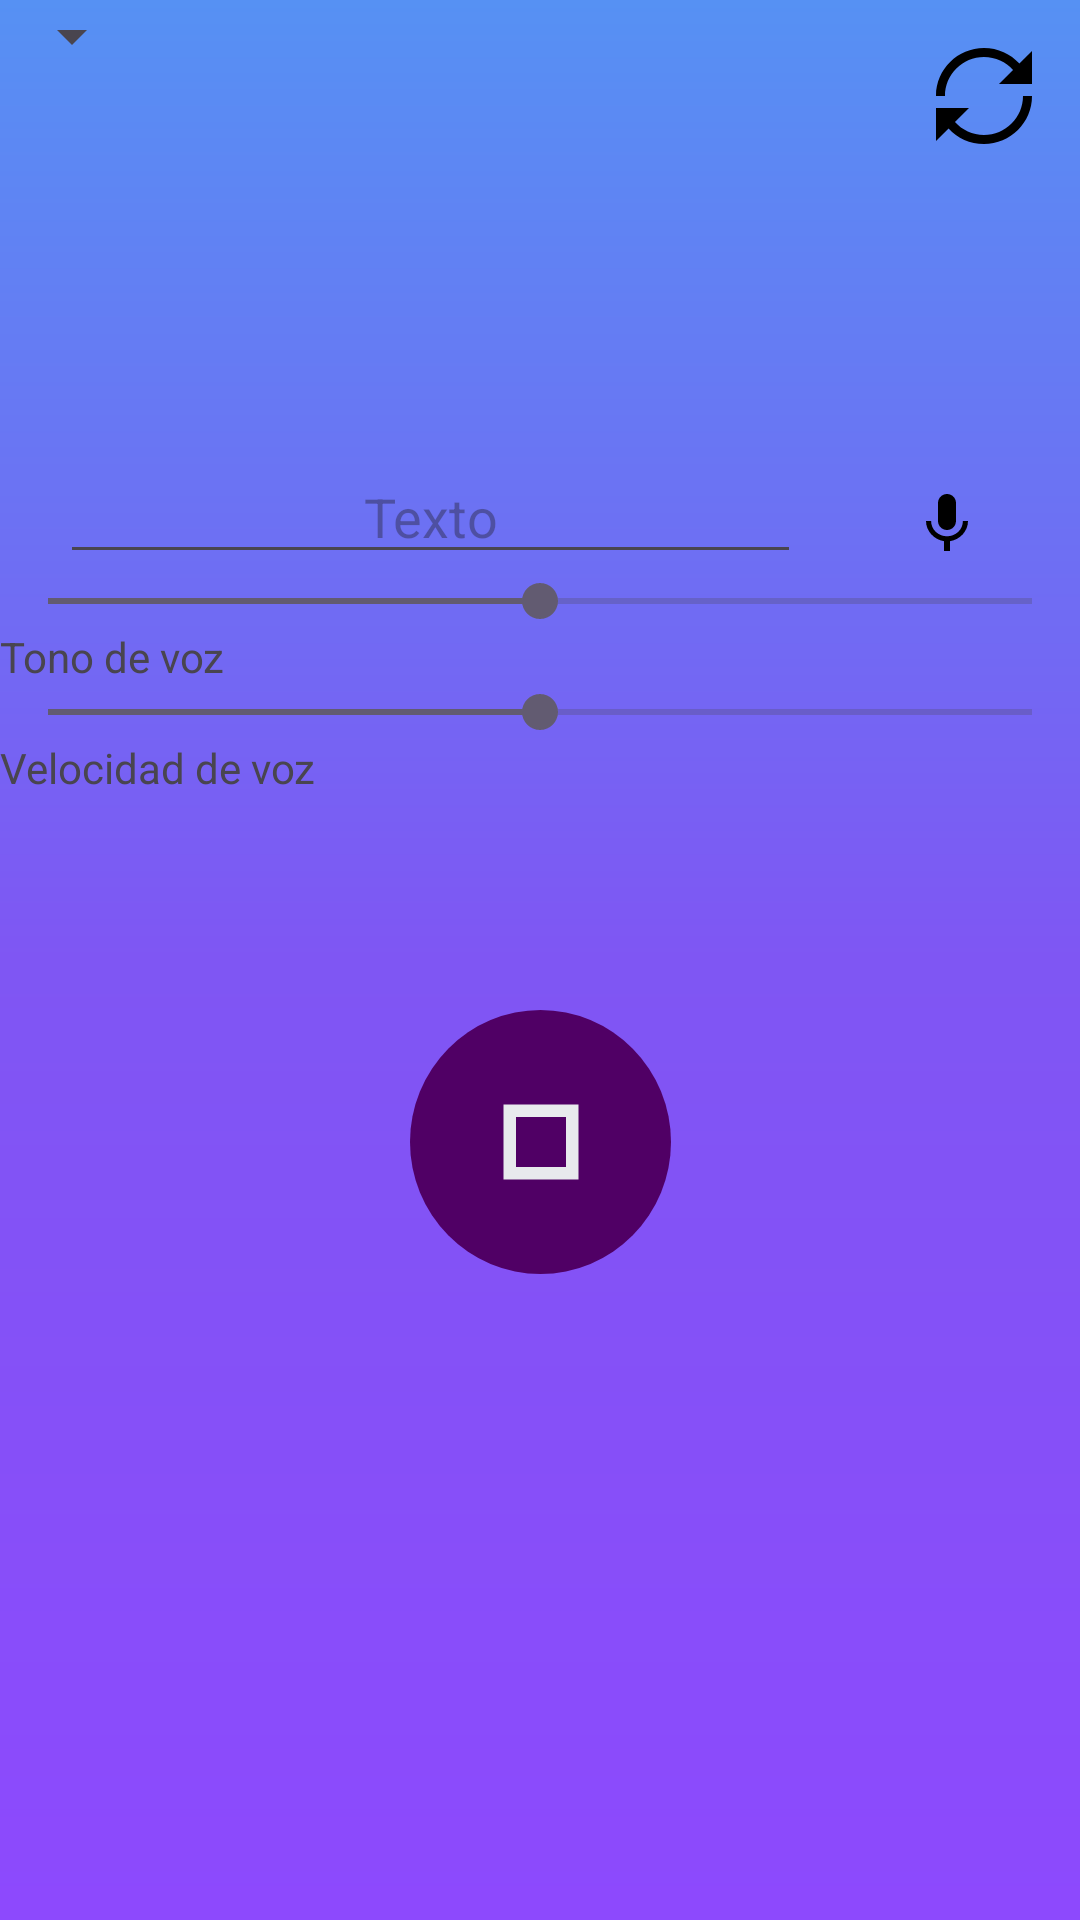

Where icons sit on this 1080px×1920px app screen, as bbox(x1, y1, x2, y2):
Botón de micrófono: bbox(926, 494, 968, 551)
Repetir última frase: bbox(936, 48, 1032, 144)
stop: bbox(410, 1010, 671, 1274)
